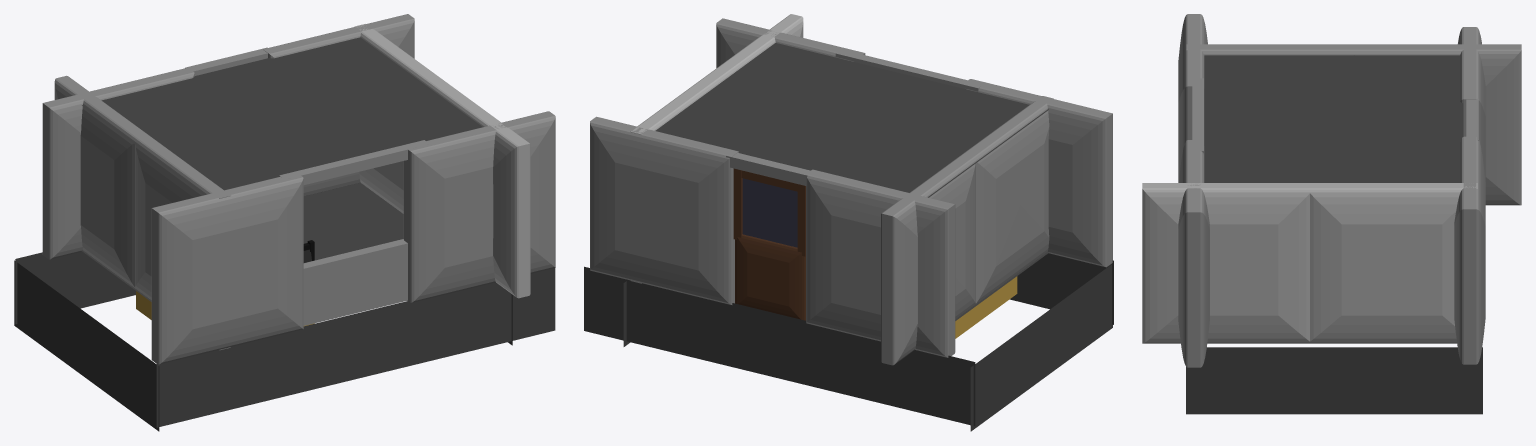
File: Train.fbx
3 views of the same model, side by side, from view 1: azimuth 30°, elevation 25°; view 2: azimuth 150°, elevation 25°; view 3: azimuth 270°, elevation 25° (orthographic). The views are drawn at different scales.
Visible parts, largest first — view 1: Paint; view 2: Paint; view 3: Paint.
Boxes of the visible parts, box(x1,y1,x2,y2) form: Paint: box(14, 14, 555, 431); Paint: box(584, 14, 1113, 431); Paint: box(1142, 14, 1521, 414).
Bounding box in the file's own units: 23.74 × 12.45 × 19.12.
